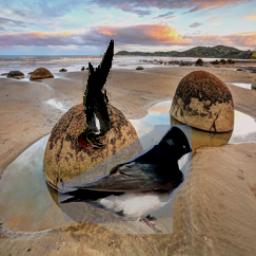Swallow: (59, 126, 193, 235)
Woodpecker: (78, 39, 114, 149)
